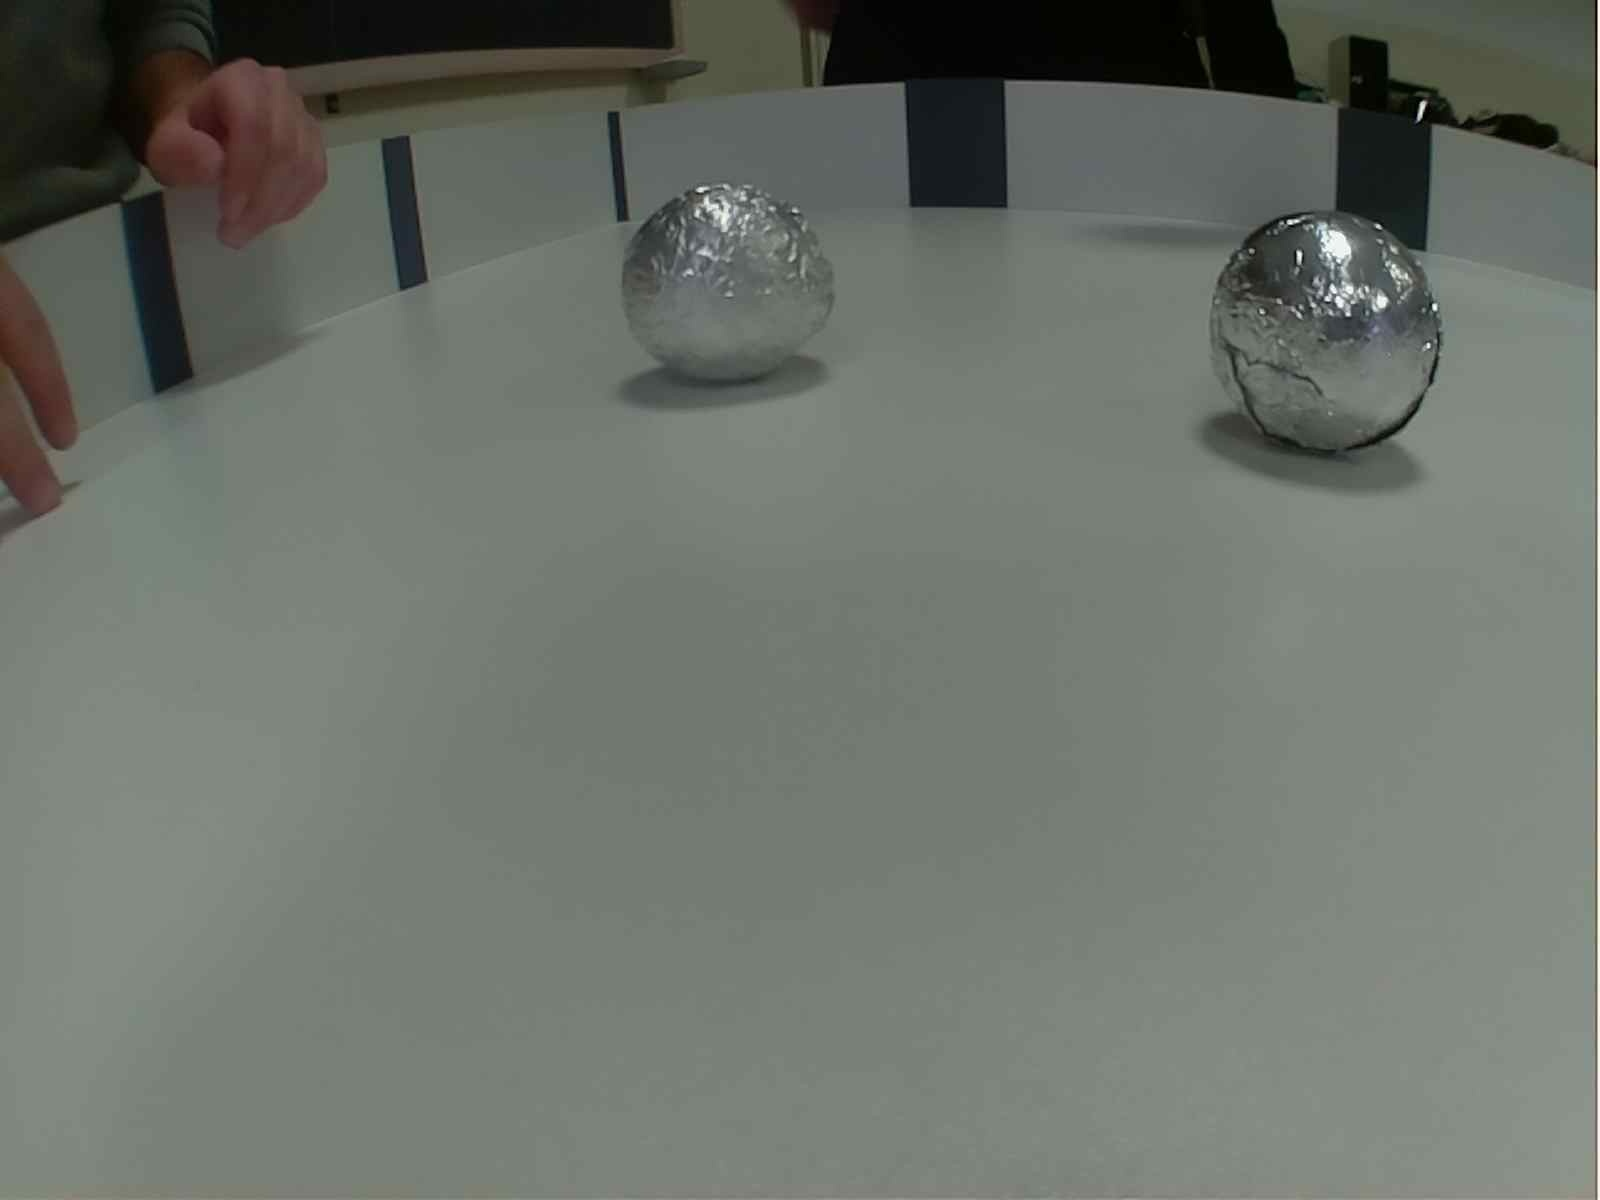bianca: (1204, 205, 1449, 456), (622, 179, 844, 386)
